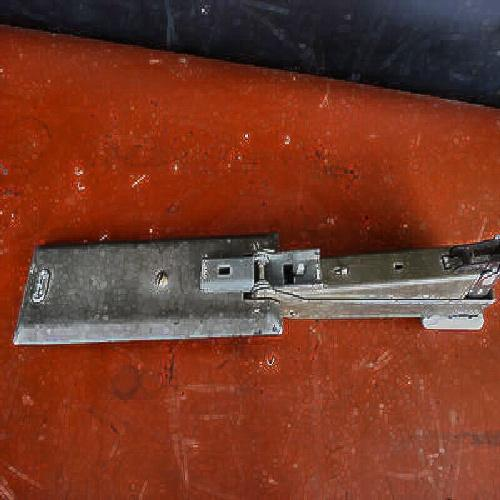stapler: (38, 211, 494, 351)
